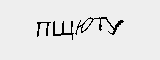П: (34, 19, 50, 38)
Т: (93, 15, 104, 32)
У: (105, 17, 125, 37)
Щ: (50, 20, 75, 41)
Ю: (72, 15, 93, 39)
